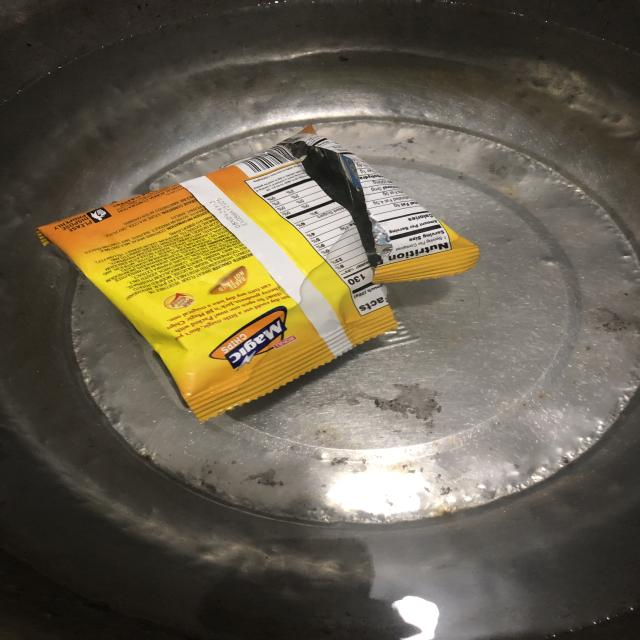Plastic Wrapper: (21, 103, 508, 435)
